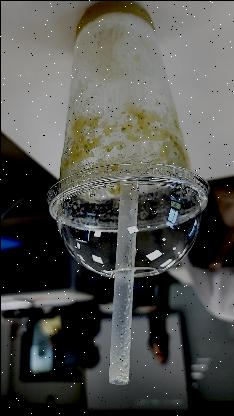Others: (48, 0, 208, 286), (42, 160, 208, 278), (107, 179, 137, 386)
